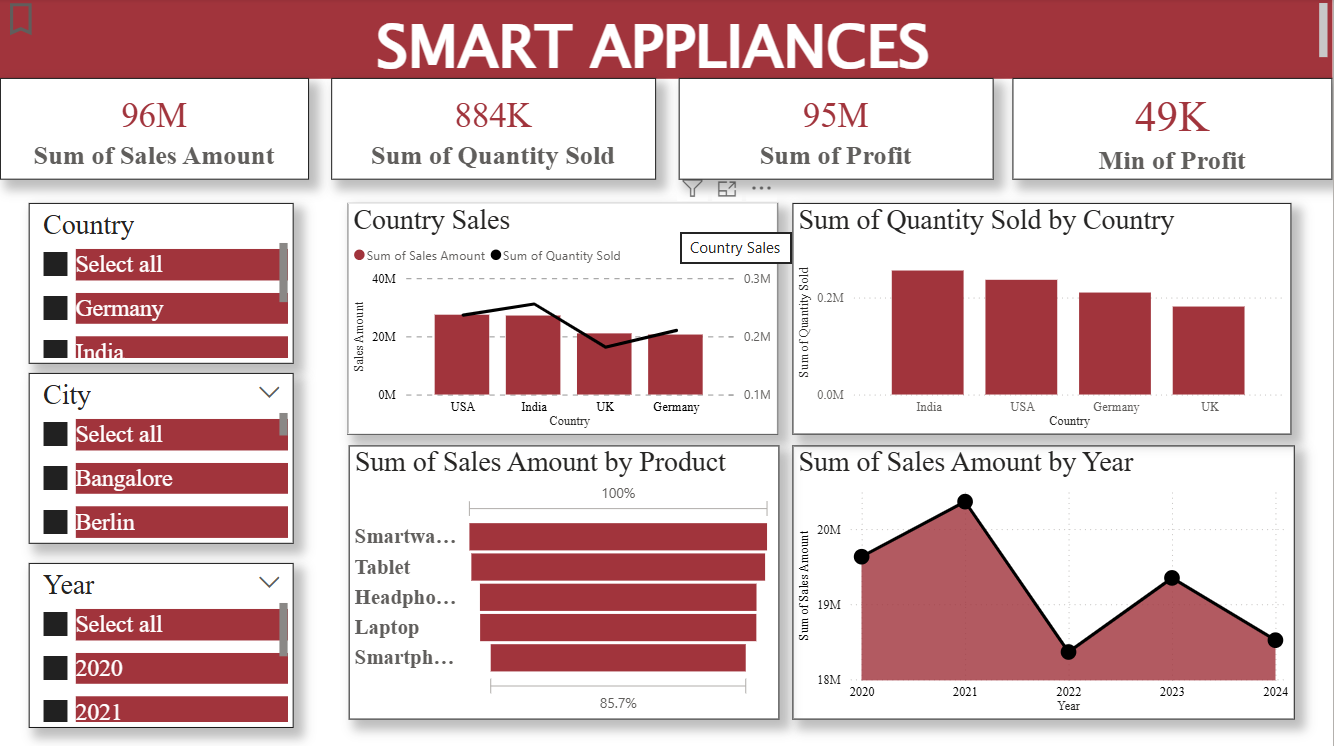

Layout of this report page (visuals, bound fields, positions):
{"tool":"powerbi","page":{"name":"Final Dashboard","canvas":[1280,720],"ordinal":5},"visuals":[{"type":"textbox","box":[0,0,1280.3,77.2],"z":0},{"type":"areaChart","fields":{"Category":["Product_Sales_Dataset.Year"],"Y":["Sum(Product_Sales_Dataset.Sales Amount)"]},"box":[761.4,429.5,482.3,262.8],"z":1000},{"type":"lineClusteredColumnComboChart","title":"Country Sales","fields":{"Category":["Product_Sales_Dataset.Country"],"Y":["Sum(Product_Sales_Dataset.Sales Amount)"],"Y2":["Sum(Product_Sales_Dataset.Quantity Sold)"]},"box":[333.3,196.4,413.2,222.2],"z":2000},{"type":"columnChart","fields":{"Category":["Product_Sales_Dataset.Country"],"Y":["Sum(Product_Sales_Dataset.Quantity Sold)"]},"box":[761.4,196.4,479.6,222.2],"z":4000},{"type":"slicer","fields":{"Values":["Product_Sales_Dataset.Country"]},"box":[27.1,196.4,254.7,154.4],"z":5000},{"type":"card","fields":{"Values":["Sum(Product_Sales_Dataset.Sales Amount)"]},"box":[0,77.2,296.7,97.5],"z":5001},{"type":"card","fields":{"Values":["Sum(Product_Sales_Dataset.Quantity Sold)"]},"box":[318.4,77.2,311.6,97.5],"z":5002},{"type":"card","fields":{"Values":["Sum(Product_Sales_Dataset.Profit)"]},"box":[651.7,77.2,302.1,97.5],"z":5003},{"type":"card","fields":{"Values":["Min(Product_Sales_Dataset.Profit)"]},"box":[972.7,77.2,307.5,97.5],"z":5004},{"type":"funnel","fields":{"Category":["Product_Sales_Dataset.Product"],"Y":["Sum(Product_Sales_Dataset.Sales Amount)"]},"box":[334.6,429.5,413.2,262.8],"z":5005},{"type":"slicer","fields":{"Values":["Product_Sales_Dataset.Year"]},"box":[27.1,543.3,254.7,158.5],"z":5006},{"type":"slicer","fields":{"Values":["Product_Sales_Dataset.City"]},"box":[27.1,360.4,254.7,163.9],"z":5007},{"type":"actionButton","box":[0,0,70.4,40.2],"z":5008}]}

Visuals, with their boxes in screenshot pixels (x1, y1, x2, y2), scaled from the page's 1280x720 canvas onto the 1334x746 screenshot:
textbox: left=0, top=0, right=1333, bottom=80
areaChart - Product_Sales_Dataset.Year x Sum(Product_Sales_Dataset.Sales Amount): left=794, top=445, right=1296, bottom=717
"Country Sales" lineClusteredColumnComboChart: left=347, top=203, right=778, bottom=434
columnChart - Product_Sales_Dataset.Country x Sum(Product_Sales_Dataset.Quantity Sold): left=794, top=203, right=1293, bottom=434
slicer - Product_Sales_Dataset.Country: left=28, top=203, right=294, bottom=363
card - Sum(Product_Sales_Dataset.Sales Amount): left=0, top=80, right=309, bottom=181
card - Sum(Product_Sales_Dataset.Quantity Sold): left=332, top=80, right=657, bottom=181
card - Sum(Product_Sales_Dataset.Profit): left=679, top=80, right=994, bottom=181
card - Min(Product_Sales_Dataset.Profit): left=1014, top=80, right=1333, bottom=181
funnel - Product_Sales_Dataset.Product x Sum(Product_Sales_Dataset.Sales Amount): left=349, top=445, right=779, bottom=717
slicer - Product_Sales_Dataset.Year: left=28, top=563, right=294, bottom=727
slicer - Product_Sales_Dataset.City: left=28, top=373, right=294, bottom=543
actionButton: left=0, top=0, right=73, bottom=42
